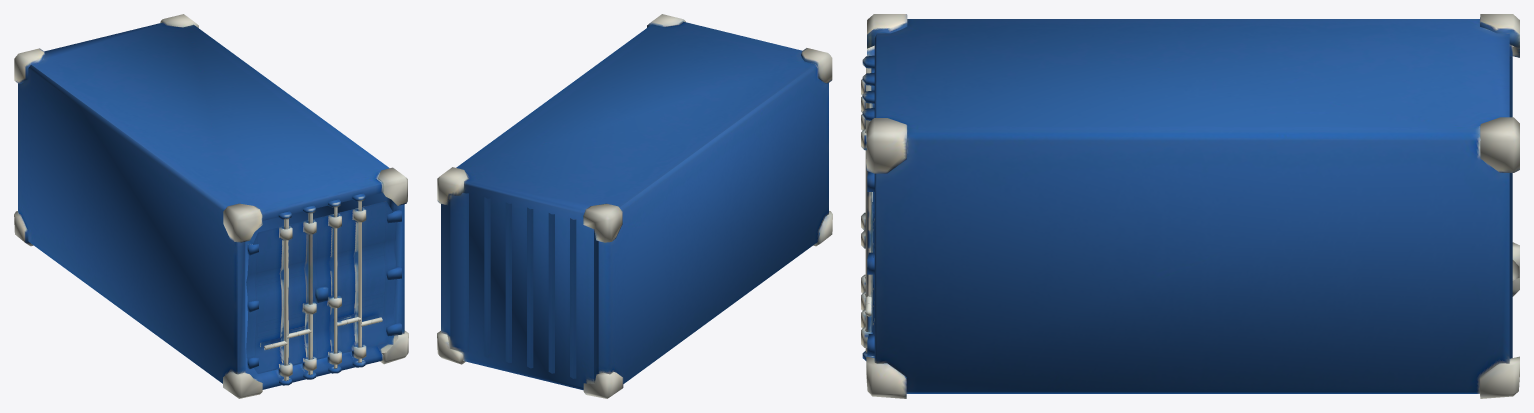
The model's file is cs_container_20.glb.
3 renders of one model, left to right at view 1: azimuth 30°, elevation 25°; view 2: azimuth 150°, elevation 25°; view 3: azimuth 270°, elevation 25°, orthographic. The views are drawn at different scales.
Parts seen in each view (by area): view 1: cs_container_20; view 2: cs_container_20; view 3: cs_container_20.
Part boxes in pixels (left/top/right/bottom): cs_container_20: left=14, top=14, right=408, bottom=398; cs_container_20: left=437, top=14, right=832, bottom=398; cs_container_20: left=861, top=14, right=1519, bottom=398.
Bounding box in the file's own units: 0.4429 × 0.4487 × 0.9995.
Materials: 1 (1 with a texture image).
